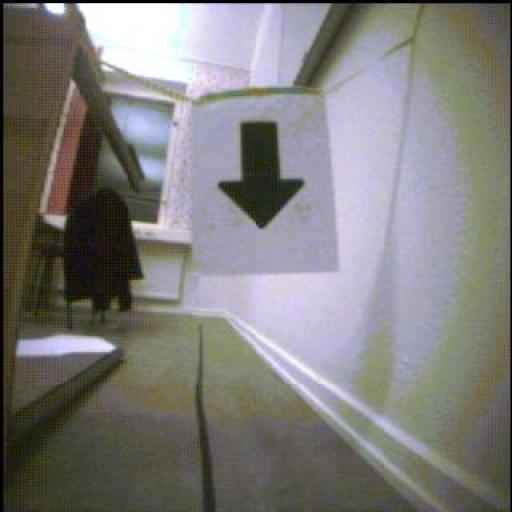arrow: (220, 123, 305, 230)
